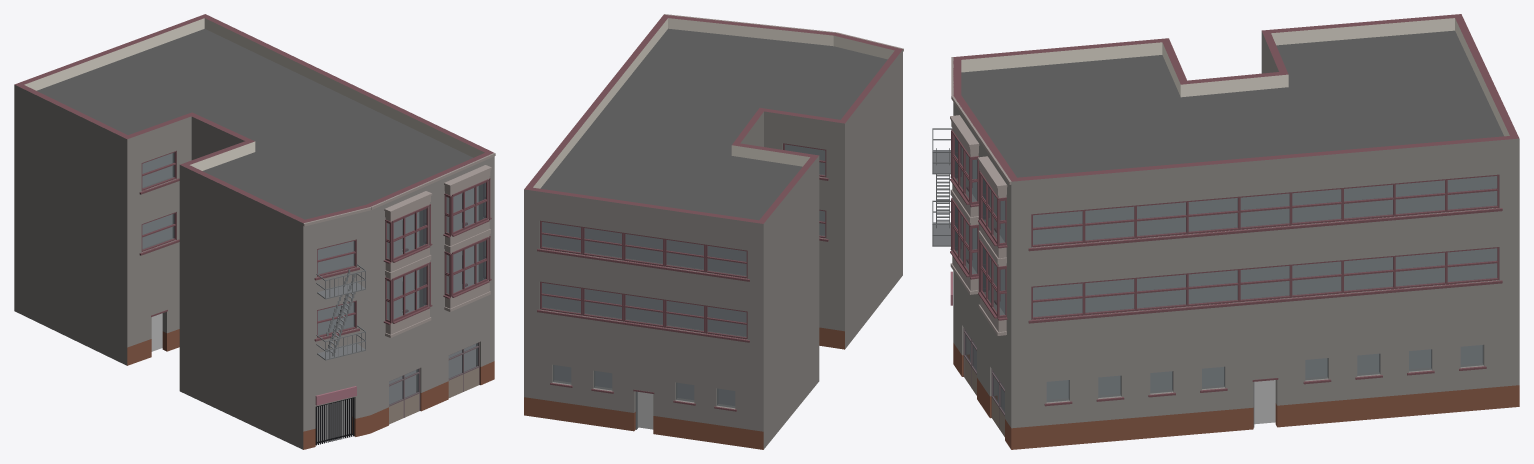
File: exterior.glb
The picture shows the model from 3 angles, left to right: view 1: azimuth 30°, elevation 25°; view 2: azimuth 150°, elevation 25°; view 3: azimuth 270°, elevation 25°; orthographic projection. The views are drawn at different scales.
Parts seen in each view (by area): view 1: shell, roof, bay-glazing-hyb, shadow-proxy, glazing, bay-windows-hyb, storefront, fire-escape, frames, trim, relief-6; view 2: shell, roof, glazing, shadow-proxy, frames, trim; view 3: shell, roof, glazing, shadow-proxy, frames, bay-glazing-hyb, trim, bay-windows-hyb, fire-escape, storefront.
Part boxes in pixels (x1,y1,x2,y2): shell: [14, 14, 494, 449]; roof: [37, 28, 473, 219]; bay-glazing-hyb: [383, 178, 491, 324]; shadow-proxy: [142, 153, 478, 441]; glazing: [142, 152, 477, 404]; bay-windows-hyb: [384, 165, 491, 337]; storefront: [151, 309, 479, 445]; fire-escape: [316, 264, 365, 360]; frames: [141, 151, 356, 337]; trim: [139, 178, 467, 341]; relief-6: [371, 153, 495, 209]; shell: [524, 14, 902, 449]; roof: [540, 28, 887, 220]; glazing: [542, 144, 825, 407]; shadow-proxy: [542, 144, 824, 429]; frames: [540, 143, 826, 339]; trim: [537, 177, 828, 411]; shell: [953, 14, 1519, 449]; roof: [961, 30, 1503, 177]; glazing: [965, 176, 1497, 413]; shadow-proxy: [970, 160, 1496, 424]; frames: [972, 160, 1499, 319]; bay-glazing-hyb: [950, 129, 1007, 320]; trim: [967, 186, 1502, 406]; bay-windows-hyb: [950, 115, 1007, 335]; fire-escape: [932, 128, 952, 246]; storefront: [963, 328, 1278, 436].
Size of the model in its own units: 16.59 by 12.36 by 24.51.
